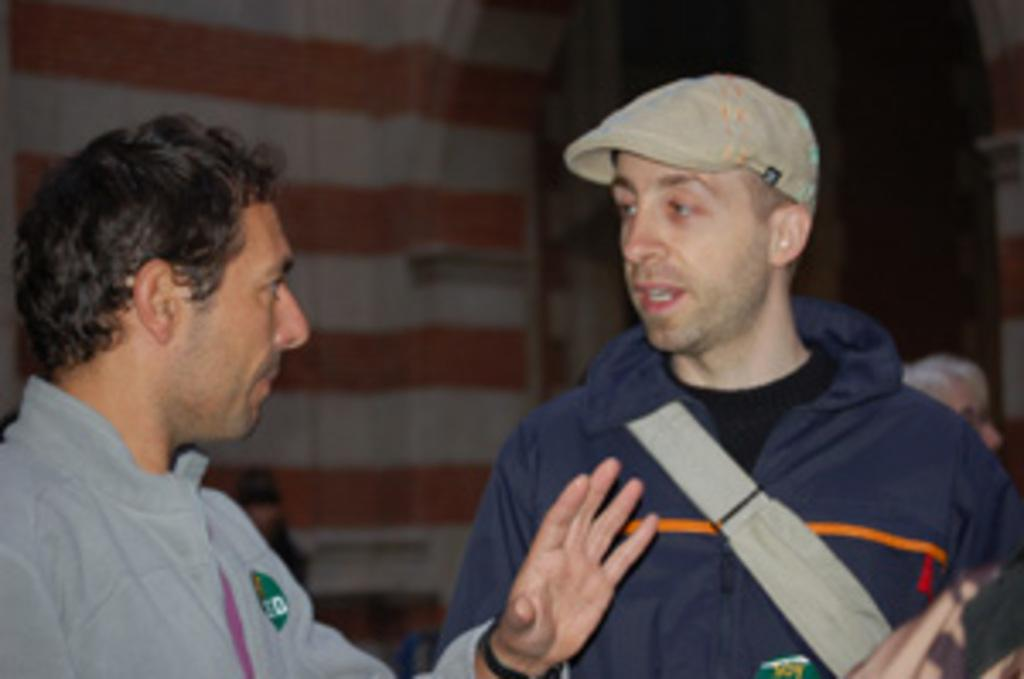Hat: (570, 71, 826, 218)
